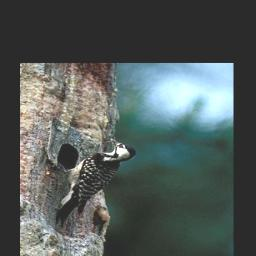Woodpecker: (57, 136, 138, 228)
